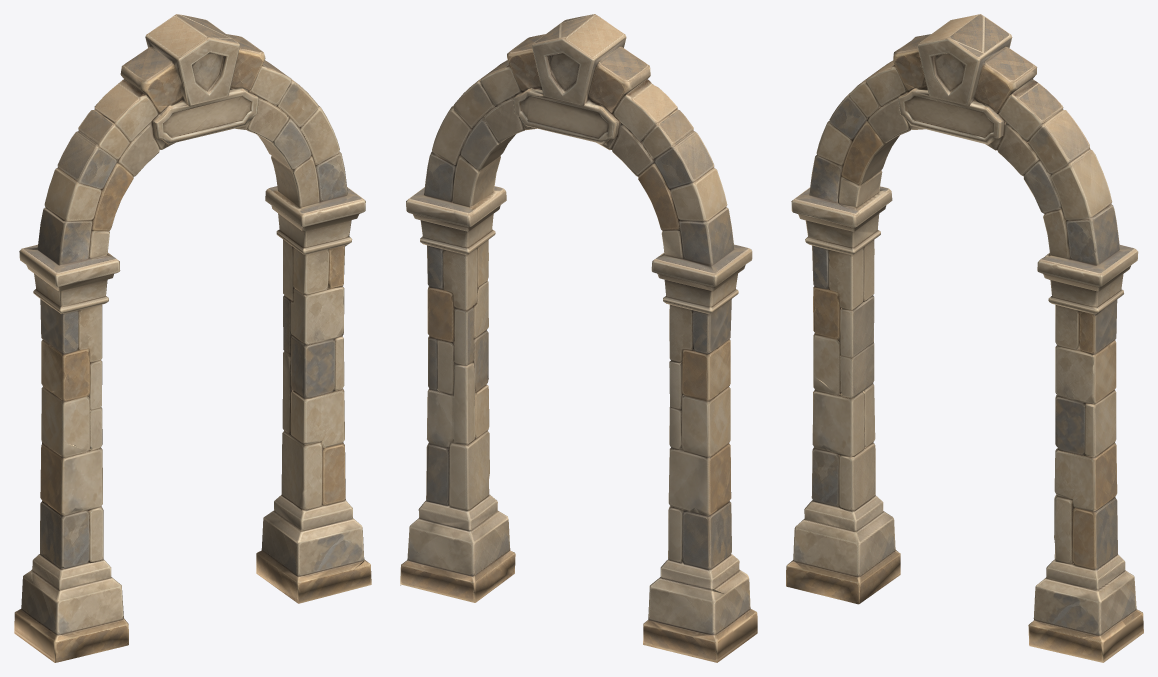
The model's file is portal_arch.glb.
3 views of the same model, side by side, from view 1: azimuth 30°, elevation 25°; view 2: azimuth 150°, elevation 25°; view 3: azimuth 330°, elevation 25° (orthographic).
Bounding box in the file's own units: 1.14 × 2 × 0.2609.
1 material, 1 textured.
